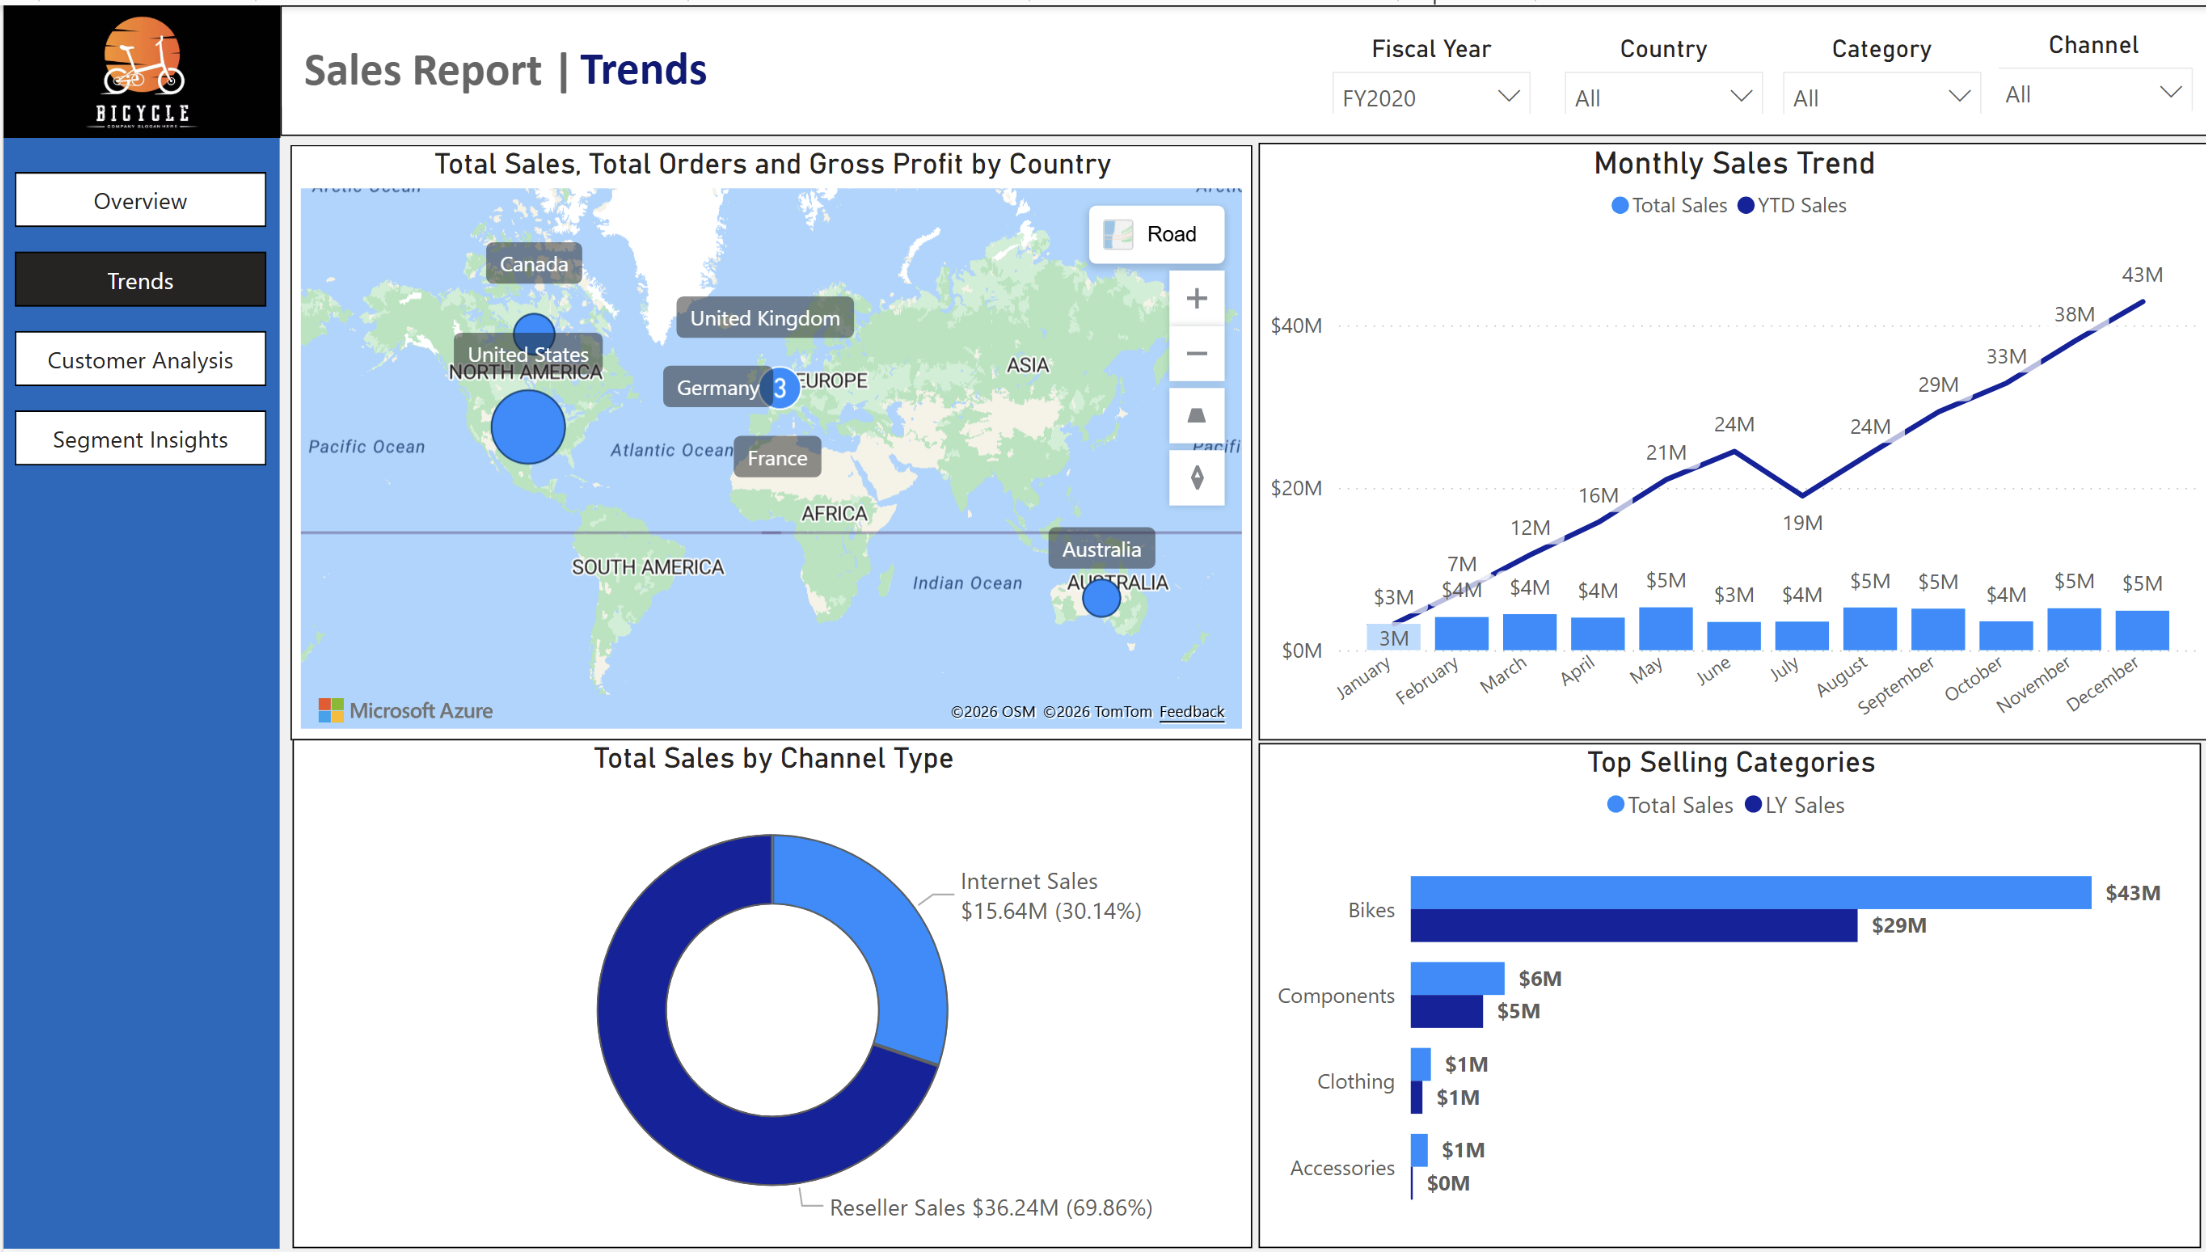

The dashboard page shown, as its layout file describes it:
{"tool":"powerbi","page":{"name":"Trends","canvas":[1280,720],"ordinal":1},"visuals":[{"type":"shape","box":[0,0,160,720],"z":0},{"type":"shape","title":"Sales Report | ","box":[160,0,1120,75.7],"z":1000},{"type":"textbox","box":[328.6,15.7,282.9,45.7],"z":2000},{"type":"azureMap","fields":{"Category":["DimSalesTerritory.Country"],"Size":["Measures_.Total Sales"]},"box":[166.1,81.2,557,344.7],"z":3000},{"type":"lineClusteredColumnComboChart","title":"Monthly Sales Trend","fields":{"Category":["DimDate.Month"],"Y":["Measures_.Total Sales"],"Y2":["Measures_.YTD Sales"]},"box":[726.8,79.9,549.5,345.9],"z":5000},{"type":"clusteredBarChart","title":"Top Selling Categories","fields":{"Category":["DimProduct.Category"],"Y":["Measures_.Total Sales","Measures_.LY Sales"]},"box":[726.8,427.1,545.7,292.2],"z":6000},{"type":"slicer","title":"Fiscal Year","fields":{"Values":["DimDate.Fiscal Year","DimDate.Month"]},"box":[759.3,16.2,134.9,46.2],"z":7000},{"type":"slicer","title":"Country","fields":{"Values":["DimSalesTerritory.Country"]},"box":[894.1,16.2,134.9,46.2],"z":8000},{"type":"slicer","title":"Channel","fields":{"Values":["DimSalesOrder.Channel"]},"box":[1142.9,14.3,134.3,47.1],"z":9000},{"type":"slicer","title":"Category","fields":{"Values":["DimProduct.Category"]},"box":[1020.3,16.2,134.9,46.2],"z":10000},{"type":"donutChart","title":"Total Sales by Channel Type","fields":{"Y":["Measures_.Internet Sales","Measures_.Reseller Sales"]},"box":[167.3,425.3,555.7,294.7],"z":11000},{"type":"pageNavigator","title":"Select View","box":[2.5,91.2,154.8,184.8],"z":13000},{"type":"image","box":[0,0,160.5,76.7],"z":13001}]}

Visuals, with their boxes in screenshot pixels (x1, y1, x2, y2), scaled from the page's 1280x720 canvas onto the 2206x1252 screenshot:
shape: x1=0, y1=0, x2=276, y2=1251
"Sales Report | " shape: x1=276, y1=0, x2=2205, y2=132
textbox: x1=566, y1=27, x2=1054, y2=107
azureMap - DimSalesTerritory.Country x Measures_.Total Sales: x1=286, y1=141, x2=1246, y2=741
"Monthly Sales Trend" lineClusteredColumnComboChart: x1=1253, y1=139, x2=2200, y2=740
"Top Selling Categories" clusteredBarChart: x1=1253, y1=743, x2=2193, y2=1251
"Fiscal Year" slicer: x1=1309, y1=28, x2=1541, y2=109
"Country" slicer: x1=1541, y1=28, x2=1773, y2=109
"Channel" slicer: x1=1970, y1=25, x2=2201, y2=107
"Category" slicer: x1=1758, y1=28, x2=1991, y2=109
"Total Sales by Channel Type" donutChart: x1=288, y1=740, x2=1246, y2=1251
"Select View" pageNavigator: x1=4, y1=159, x2=271, y2=480
image: x1=0, y1=0, x2=277, y2=133
